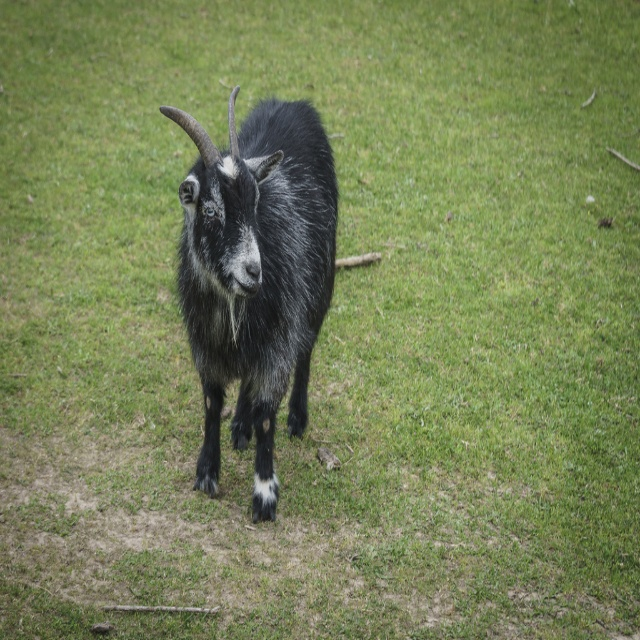Goat: (173, 80, 340, 522)
